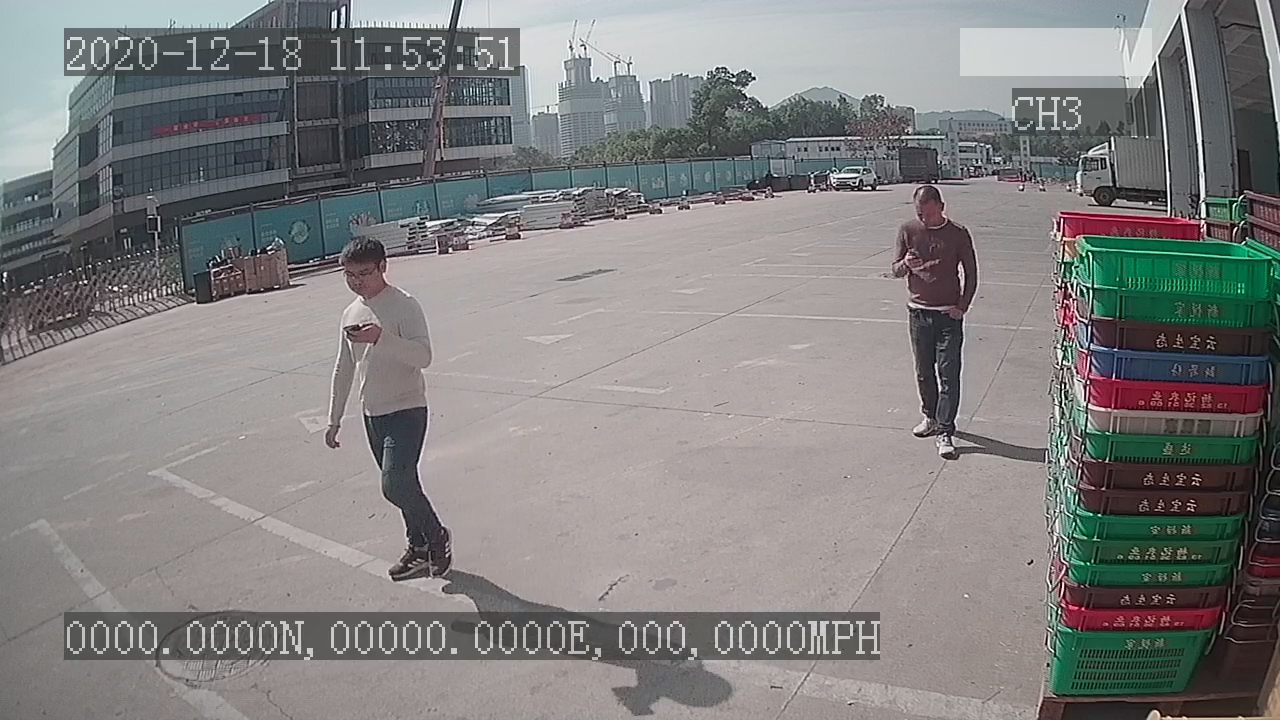person: (320, 235, 463, 592), (881, 183, 984, 463)
